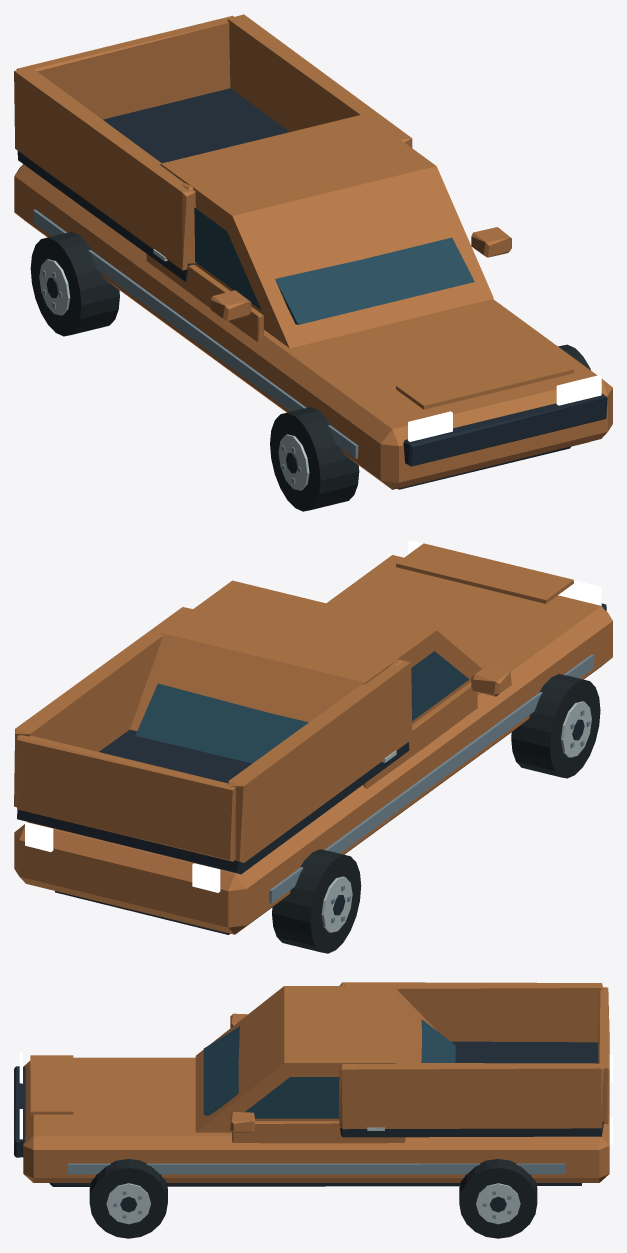
File: road-pickup.lod1.glb
3 renders of one model, top to bottom at view 1: azimuth 30°, elevation 25°; view 2: azimuth 150°, elevation 25°; view 3: azimuth 270°, elevation 25°, orthographic. The views are drawn at different scales.
Visible parts, largest first — view 1: road-pickup__body, road-pickup__bed, road-pickup__tailgate, road-pickup__wheel_steer_0_l, road-pickup__wheel_steer_1_l, road-pickup__door_-1; view 2: road-pickup__body, road-pickup__bed, road-pickup__tailgate, road-pickup__wheel_steer_0_l, road-pickup__wheel_steer_1_l, road-pickup__door_-1; view 3: road-pickup__body, road-pickup__bed, road-pickup__door_1, road-pickup__wheel_steer_1_r, road-pickup__wheel_steer_0_r, road-pickup__tailgate.
Part boxes in pixels (x1,y1,x2,y2): road-pickup__body: (14, 114, 612, 489); road-pickup__bed: (14, 14, 412, 281); road-pickup__tailgate: (16, 15, 233, 119); road-pickup__wheel_steer_0_l: (270, 407, 359, 511); road-pickup__wheel_steer_1_l: (30, 232, 119, 336); road-pickup__door_-1: (146, 207, 263, 341); road-pickup__body: (14, 540, 612, 934); road-pickup__bed: (14, 607, 412, 874); road-pickup__tailgate: (16, 735, 235, 861); road-pickup__wheel_steer_0_l: (511, 674, 600, 778); road-pickup__wheel_steer_1_l: (272, 849, 361, 953); road-pickup__door_-1: (363, 651, 477, 788); road-pickup__body: (14, 986, 612, 1186); road-pickup__bed: (339, 982, 603, 1137); road-pickup__door_1: (232, 1077, 405, 1143); road-pickup__wheel_steer_1_r: (459, 1159, 537, 1238); road-pickup__wheel_steer_0_r: (89, 1159, 167, 1238); road-pickup__tailgate: (598, 987, 609, 1123).
Bounding box in the file's own units: 2.25 × 1.55 × 5.21.
